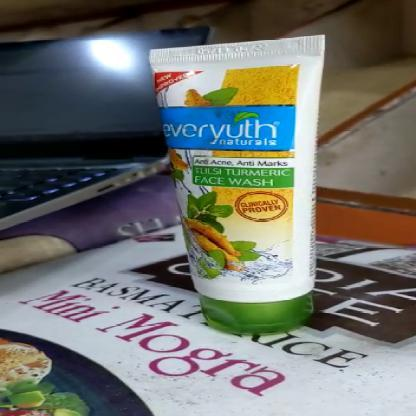EY AAAM TULSI TURMERIC FACEWASH50G: (152, 46, 334, 328)
